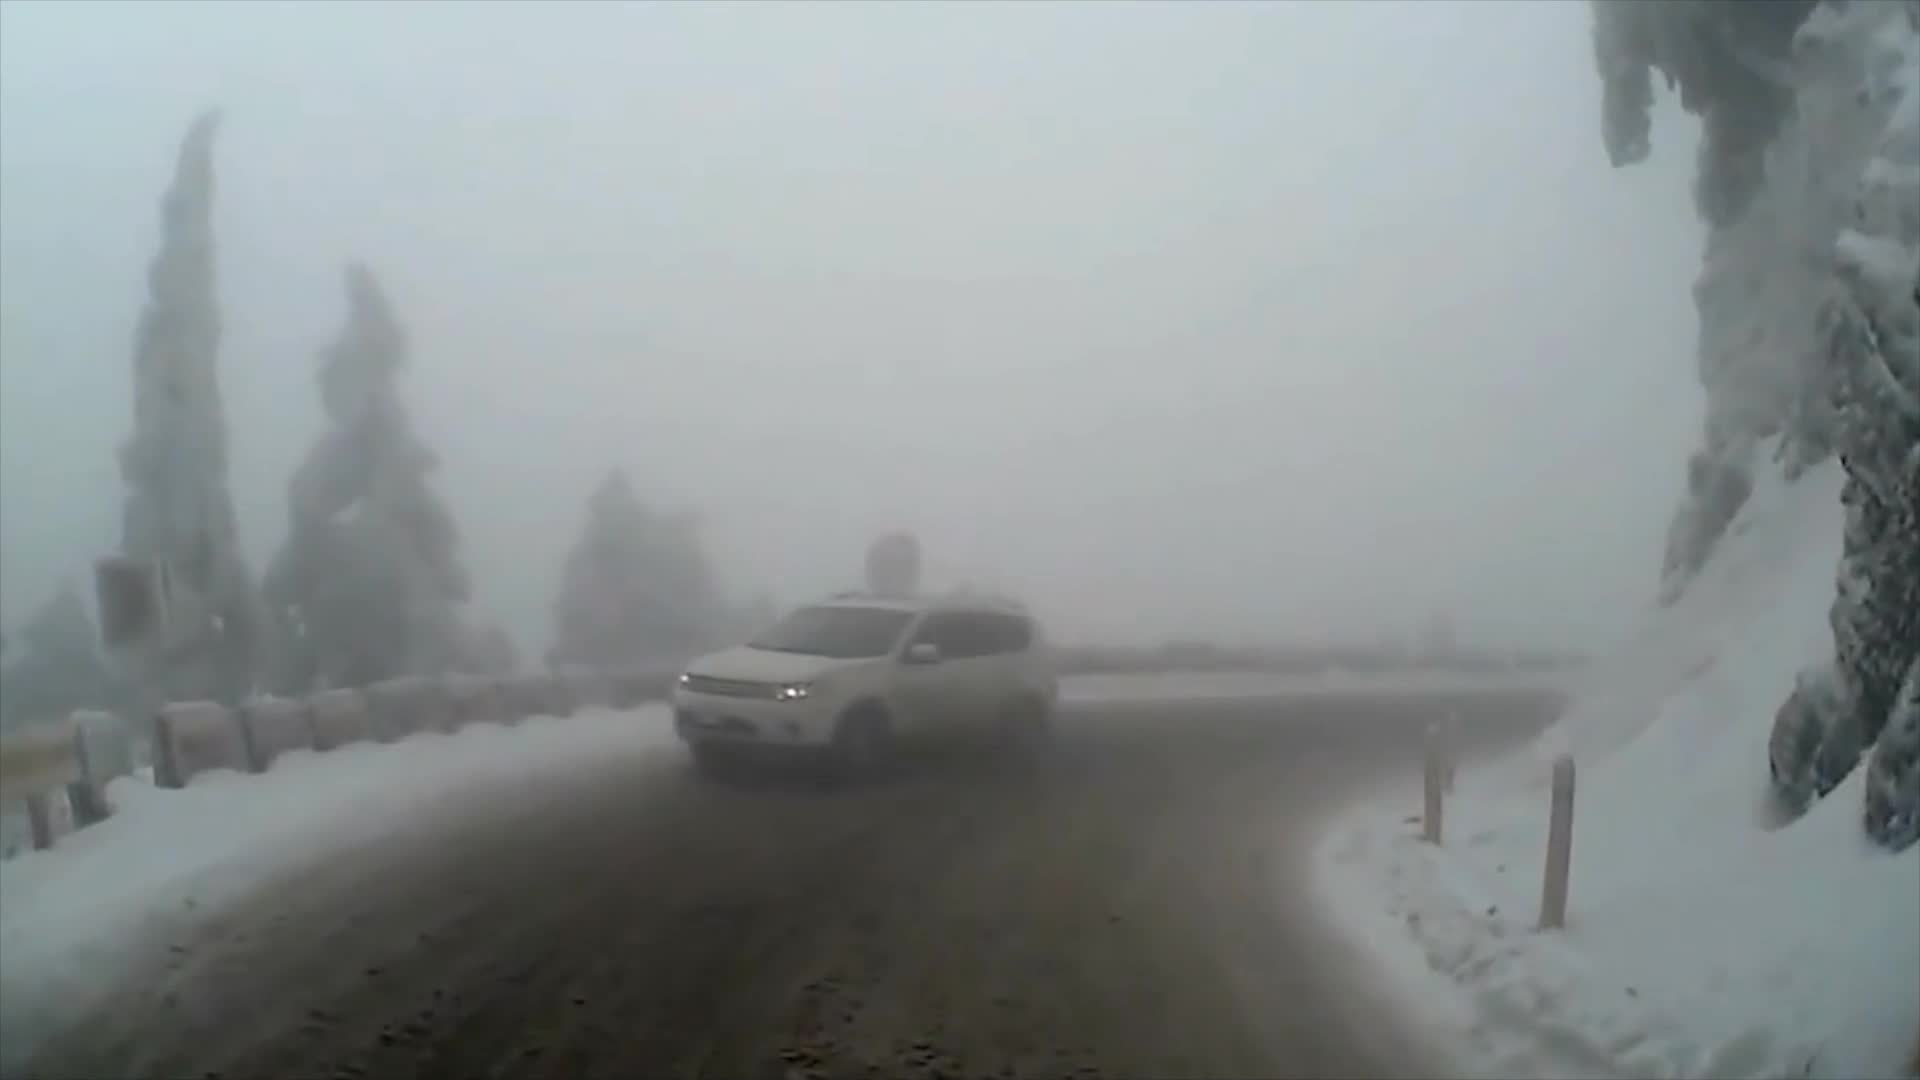vehicle: (669, 591, 1058, 800)
